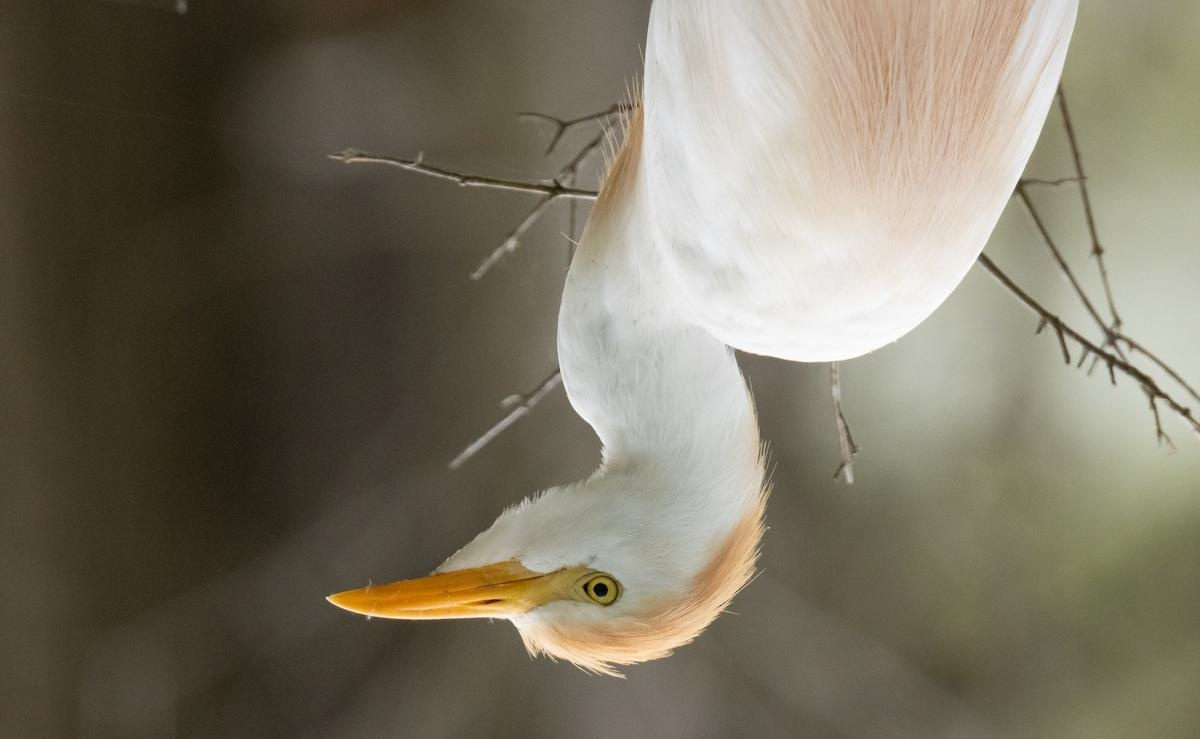egret: (315, 1, 1119, 684)
